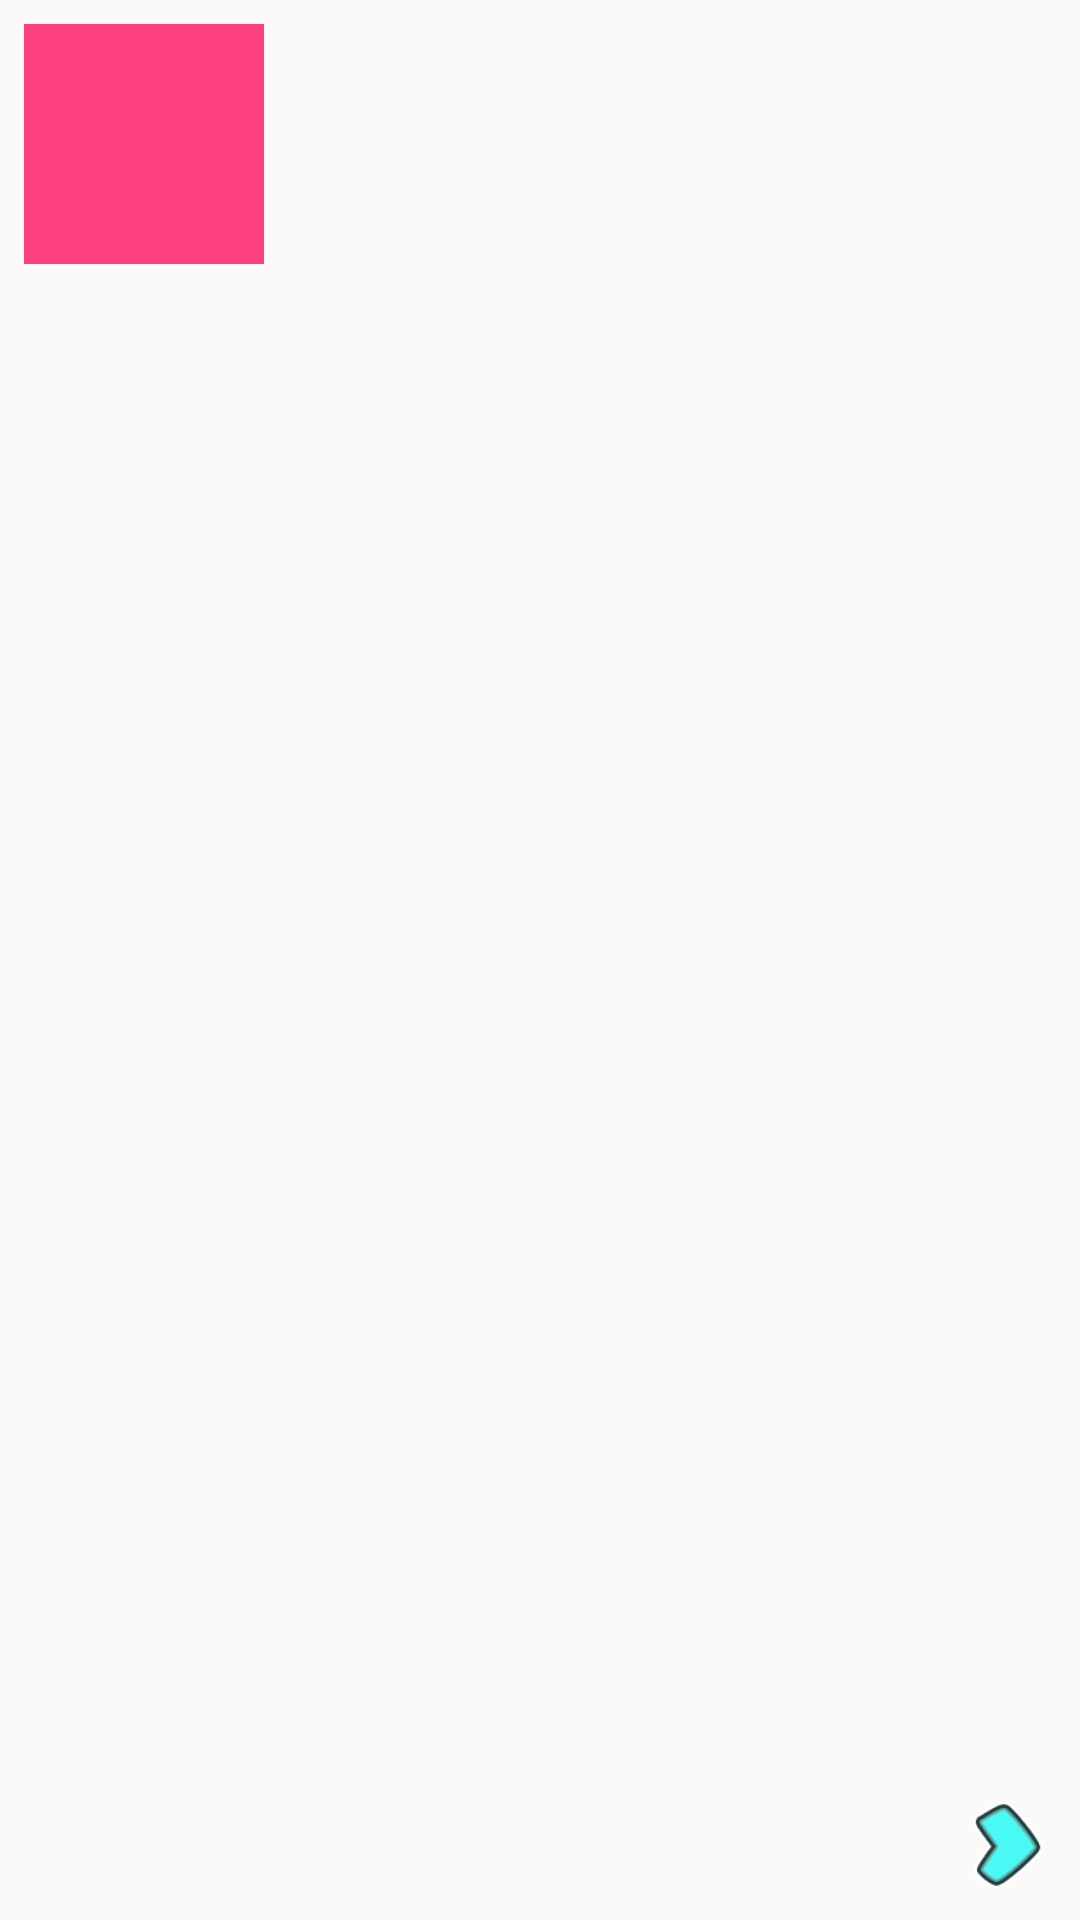

Icons on this 1080w x 1920h Android screen, each with its box as (x1, y1, x2, y2):
setacolorida: (975, 1804, 1041, 1886)
